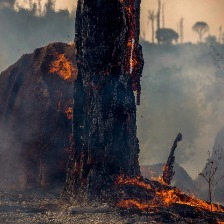incendio: (121, 162, 215, 214), (46, 54, 72, 87)
